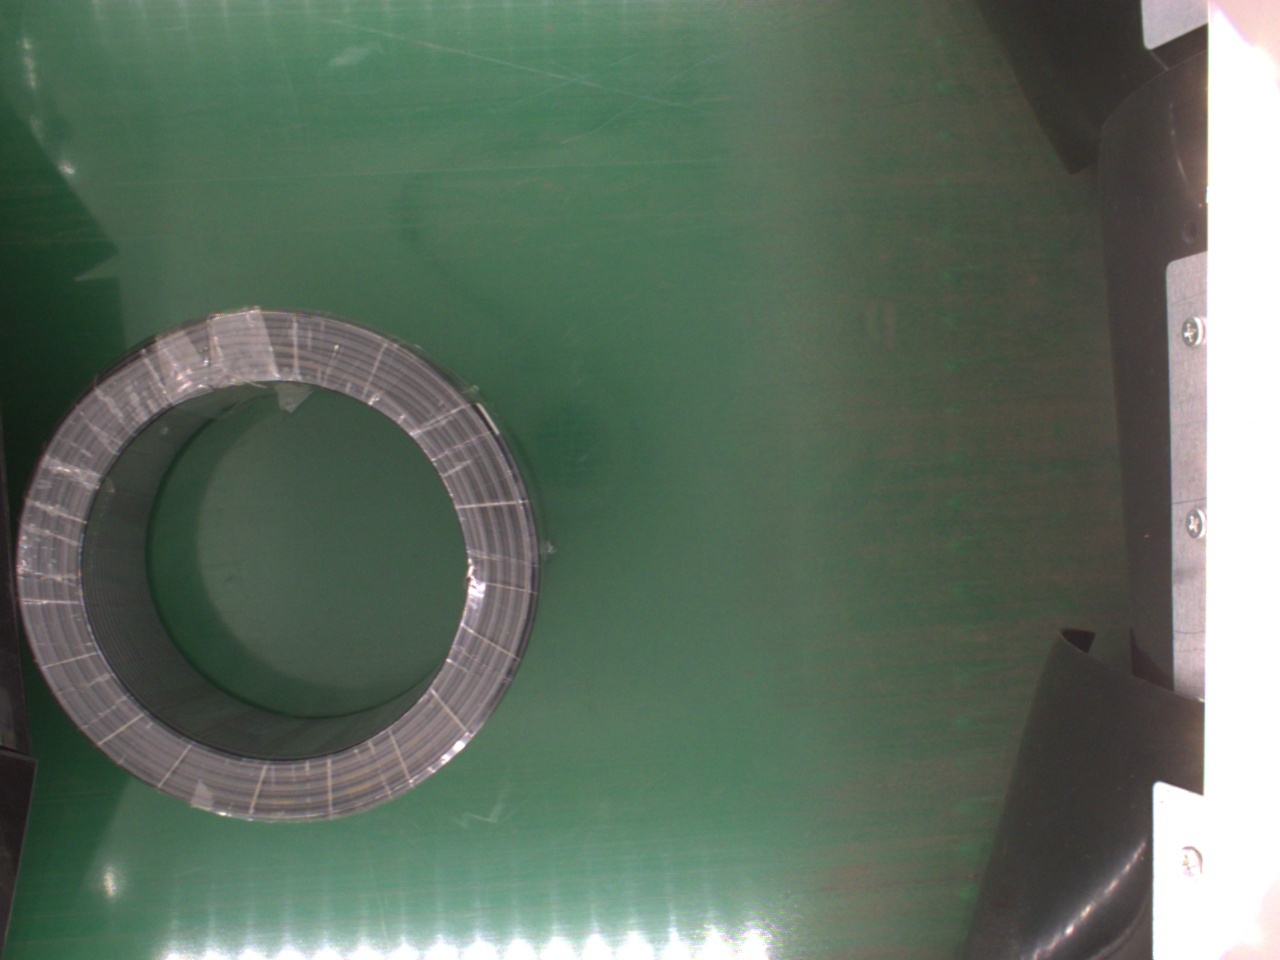black: (17, 314, 536, 824)
